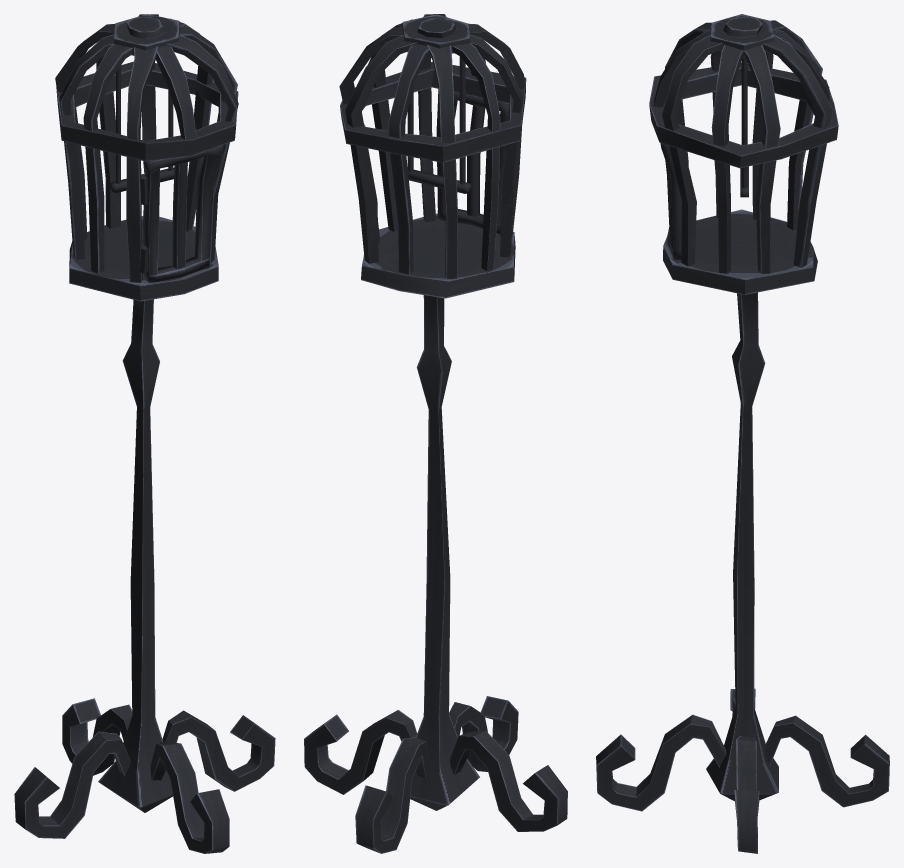
The model's file is SM_PROP_birdcage_interior_02.fbx.
3 renders of one model, left to right at view 1: azimuth 30°, elevation 25°; view 2: azimuth 150°, elevation 25°; view 3: azimuth 270°, elevation 25°, orthographic.
Parts seen in each view (by area): view 1: SM_PROP_birdcage_interior_02, SM_PROP_birdcage_door_interior_02, SM_PROP_birdcage_swing_interior_02; view 2: SM_PROP_birdcage_interior_02, SM_PROP_birdcage_door_interior_02, SM_PROP_birdcage_swing_interior_02; view 3: SM_PROP_birdcage_interior_02, SM_PROP_birdcage_door_interior_02, SM_PROP_birdcage_swing_interior_02.
Boxes of the visible parts, left/top/right/bottom form: SM_PROP_birdcage_interior_02: left=14, top=14, right=275, bottom=853; SM_PROP_birdcage_door_interior_02: left=143, top=145, right=223, bottom=282; SM_PROP_birdcage_swing_interior_02: left=110, top=66, right=174, bottom=192; SM_PROP_birdcage_interior_02: left=304, top=14, right=567, bottom=853; SM_PROP_birdcage_door_interior_02: left=436, top=89, right=509, bottom=233; SM_PROP_birdcage_swing_interior_02: left=407, top=52, right=471, bottom=193; SM_PROP_birdcage_interior_02: left=596, top=14, right=889, bottom=853; SM_PROP_birdcage_door_interior_02: left=660, top=143, right=681, bottom=259; SM_PROP_birdcage_swing_interior_02: left=740, top=57, right=748, bottom=197.
Bounding box in the file's own units: 69.52 × 207 × 70.49.
